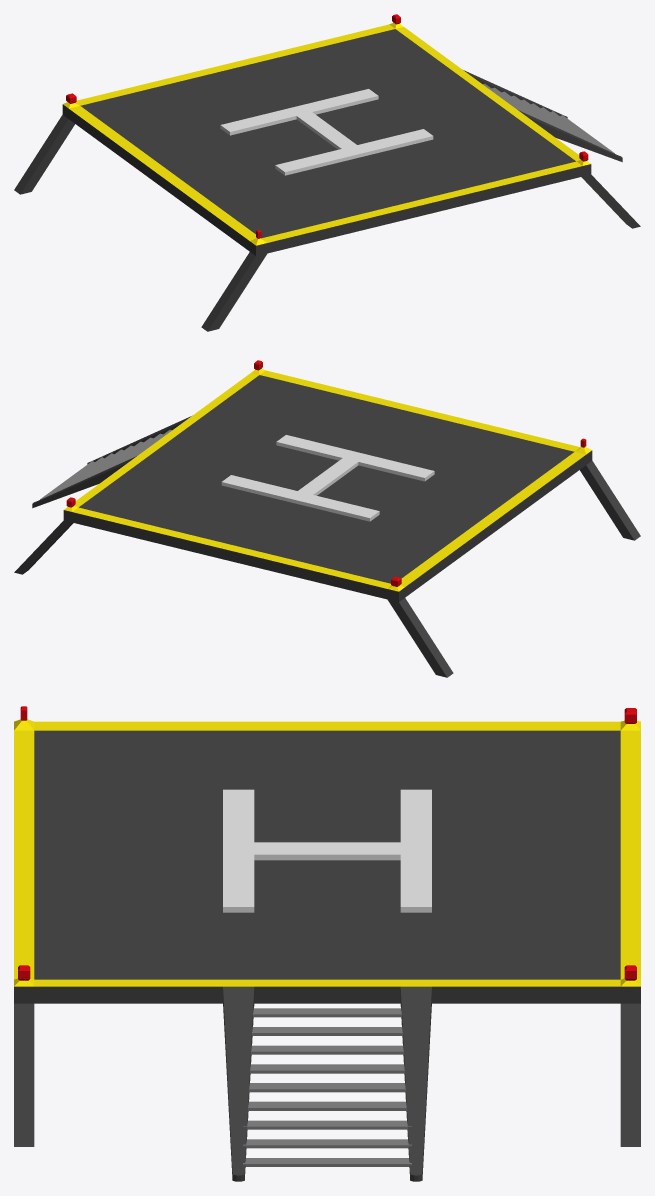
File: Helipad.fbx
3 views of the same model, one above another, from view 1: azimuth 30°, elevation 25°; view 2: azimuth 150°, elevation 25°; view 3: azimuth 270°, elevation 25° (orthographic). The views are drawn at different scales.
Visible parts, largest first — view 1: Cube; view 2: Cube; view 3: Cube.
Part boxes in pixels (bbox=[...]): Cube: bbox=[14, 14, 640, 331]; Cube: bbox=[14, 360, 640, 677]; Cube: bbox=[14, 706, 640, 1181].
Bounding box in the file's own units: 2885 × 493 × 2000.
